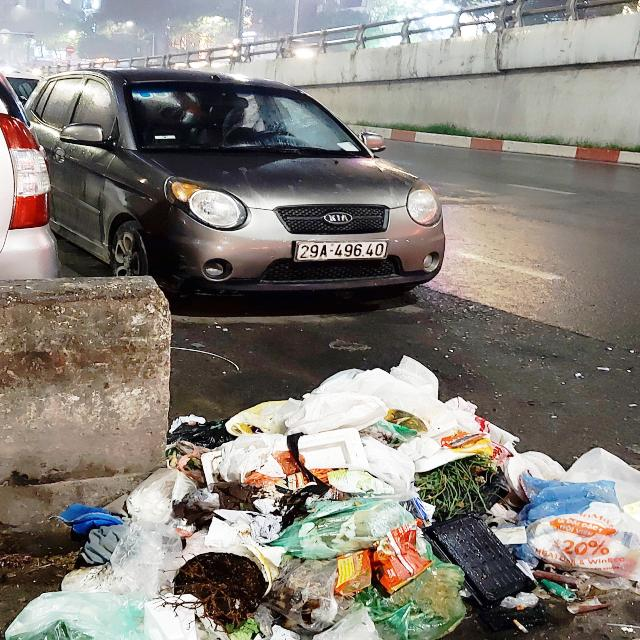license_plate: (290, 236, 395, 265)
